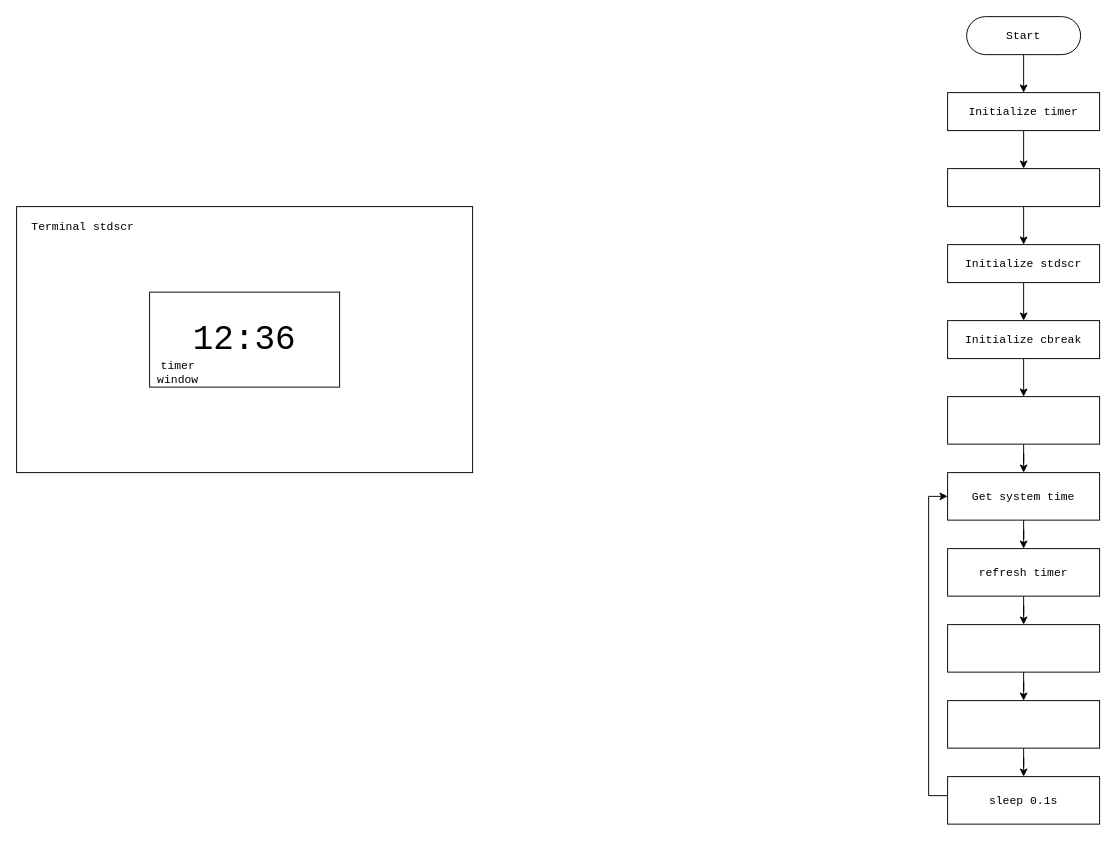
This 1116x841 diagram has some shape labels left out. The box of each missing label's shape, as (x1, y1, x2, y2) in pixels:
Initialize fonts: (947, 168, 1100, 207)
Initialize timer window: (947, 396, 1100, 444)
print time: (947, 624, 1100, 672)
refresh window: (947, 700, 1100, 748)
